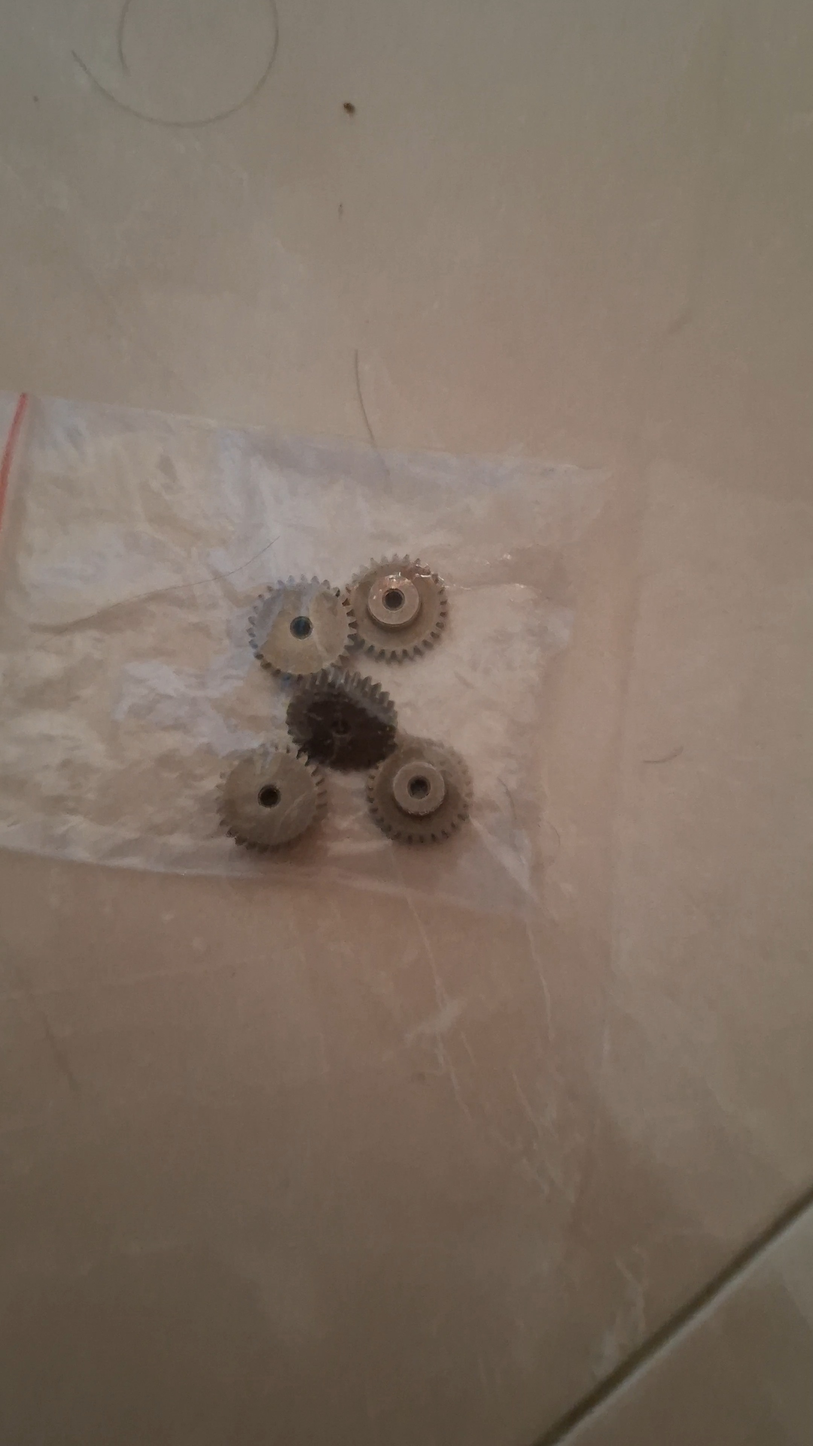spur gear: (218, 745, 326, 851), (287, 667, 396, 769), (367, 738, 472, 843), (249, 578, 355, 678), (345, 557, 447, 660)
